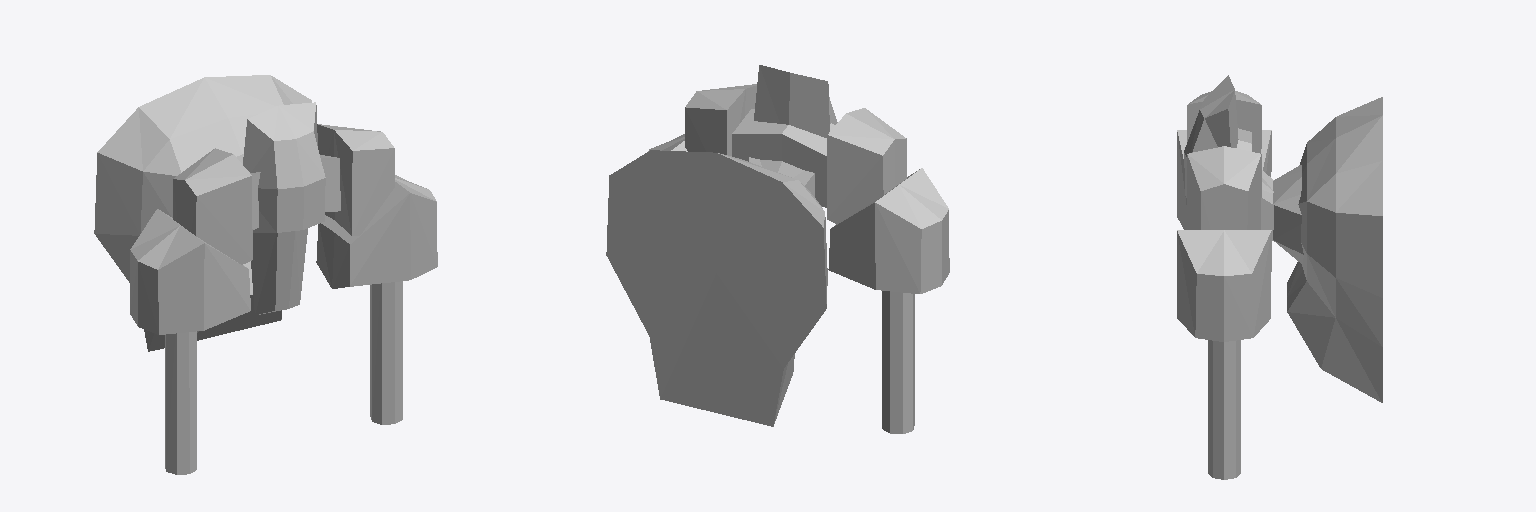
Rendered from turret-10.obj.
3 renders of one model, left to right at view 1: azimuth 30°, elevation 25°; view 2: azimuth 150°, elevation 25°; view 3: azimuth 270°, elevation 25°, orthographic.
Visible parts, largest first — view 1: turret_10; view 2: turret_10; view 3: turret_10.
Boxes of the visible parts, x1=… form: turret_10: x1=94, y1=75, x2=437, y2=474; turret_10: x1=606, y1=65, x2=949, y2=433; turret_10: x1=1177, y1=75, x2=1382, y2=479.
Bounding box in the file's own units: 4.53 × 4.94 × 2.76.